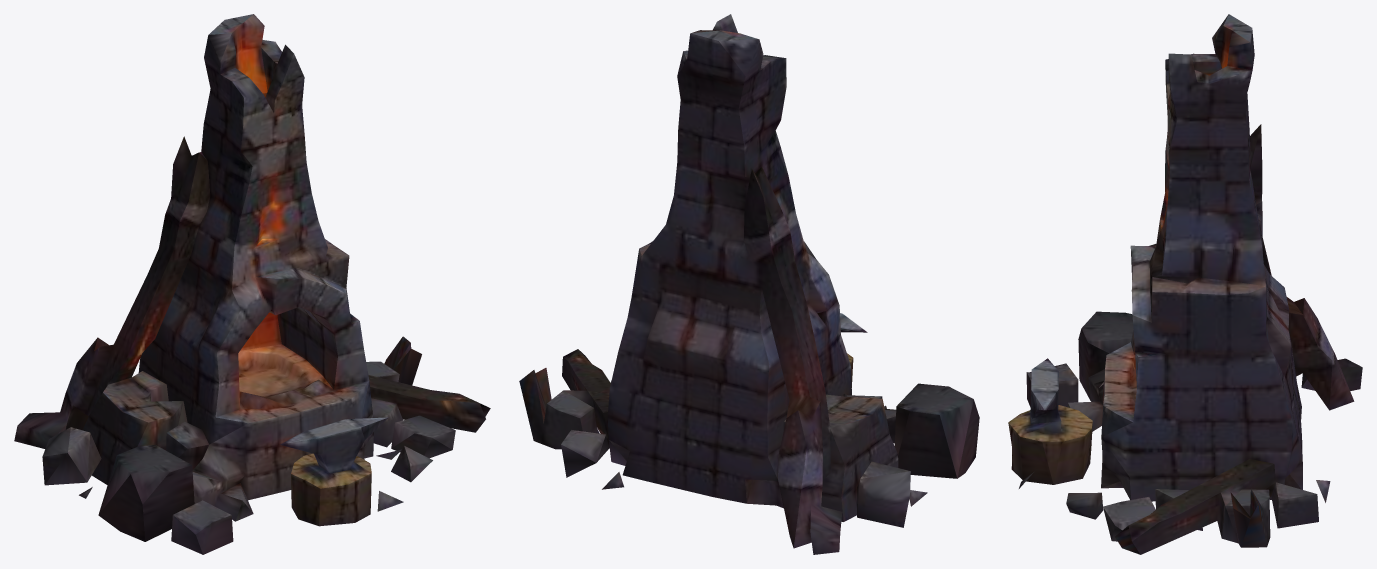
The model's file is d_braises_repere.glb.
3 renders of one model, left to right at view 1: azimuth 30°, elevation 25°; view 2: azimuth 150°, elevation 25°; view 3: azimuth 270°, elevation 25°, orthographic. The views are drawn at different scales.
Visible parts, largest first — view 1: geometry_0; view 2: geometry_0; view 3: geometry_0.
Part boxes in pixels (x1=…): geometry_0: x1=14, y1=14, x2=490, y2=554; geometry_0: x1=519, y1=14, x2=979, y2=554; geometry_0: x1=1008, y1=14, x2=1362, y2=554.
Size of the model in its own units: 0.9643 by 1 by 0.7342.
1 material, 1 textured.
